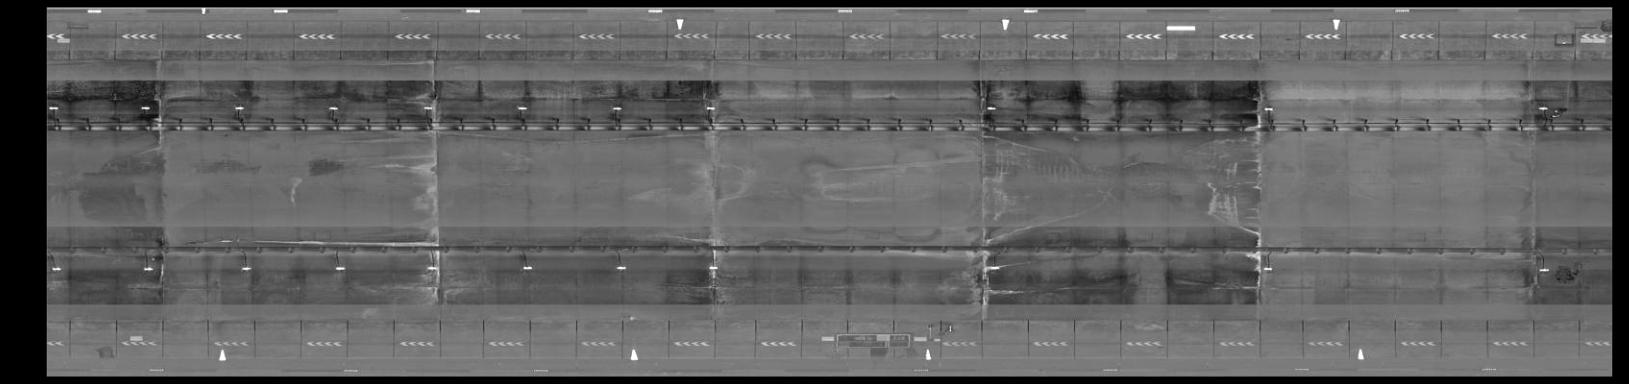light: (607, 100, 624, 114), (231, 102, 252, 113), (237, 263, 257, 275), (611, 262, 631, 274), (418, 103, 438, 114), (1258, 264, 1279, 274), (701, 263, 724, 272), (985, 263, 1008, 272), (139, 265, 161, 274), (137, 103, 155, 114), (1535, 265, 1553, 276), (325, 103, 344, 113), (513, 103, 532, 113), (985, 102, 1000, 114), (1259, 104, 1276, 115), (1534, 102, 1551, 113), (702, 103, 720, 113), (50, 263, 65, 274), (423, 264, 442, 273), (47, 102, 61, 113), (518, 263, 535, 272), (331, 265, 349, 272)
